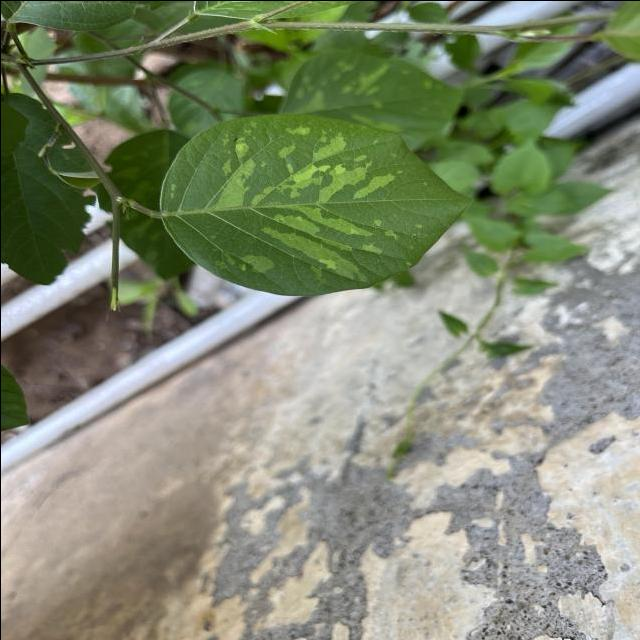Desmodium gangeticum: (156, 110, 477, 298)
